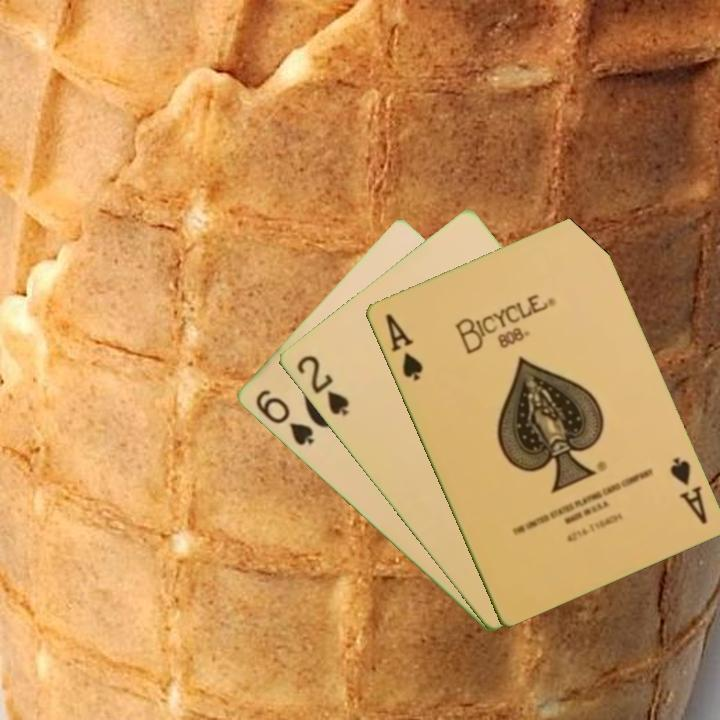2s: (292, 351, 352, 419)
6s: (251, 386, 316, 449)
As: (381, 309, 426, 384), (665, 453, 710, 527)
